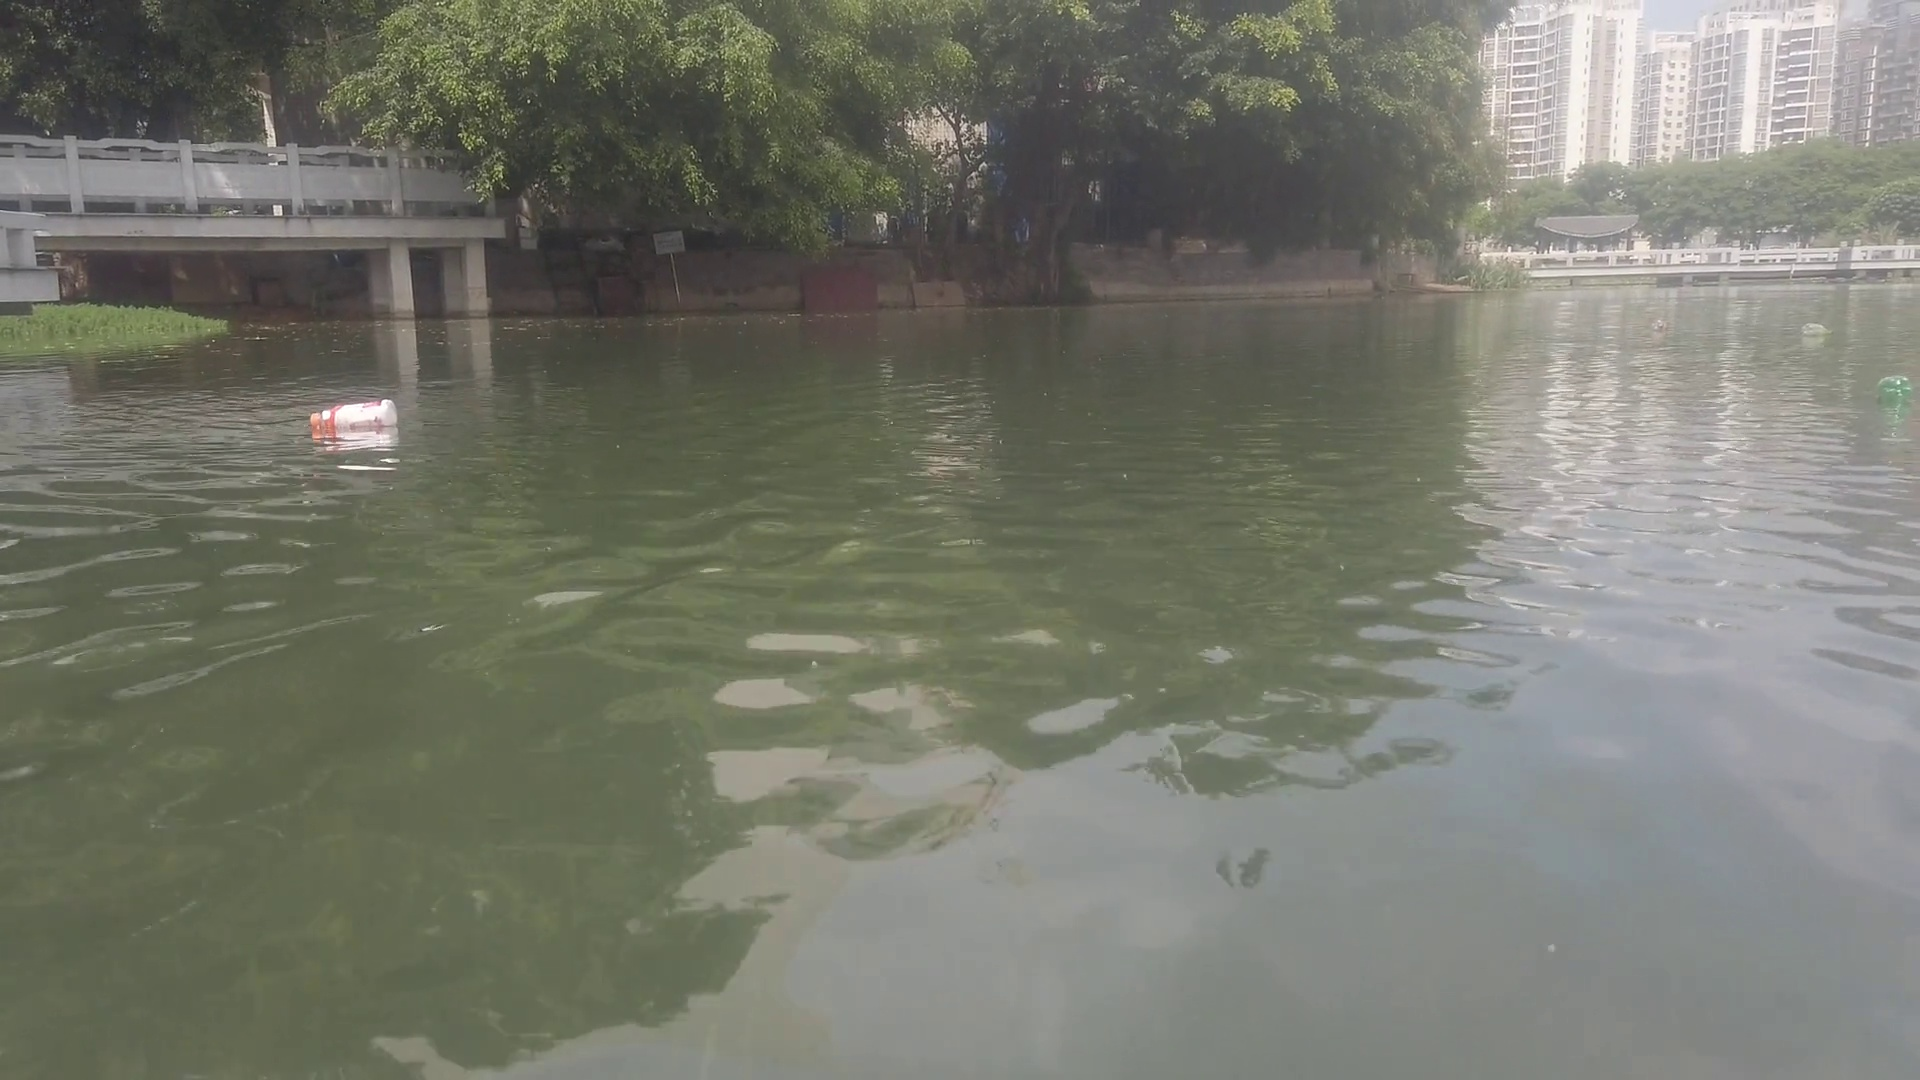bottle: (305, 401, 397, 429), (1878, 376, 1912, 398), (1803, 320, 1826, 334), (1654, 316, 1663, 326)
